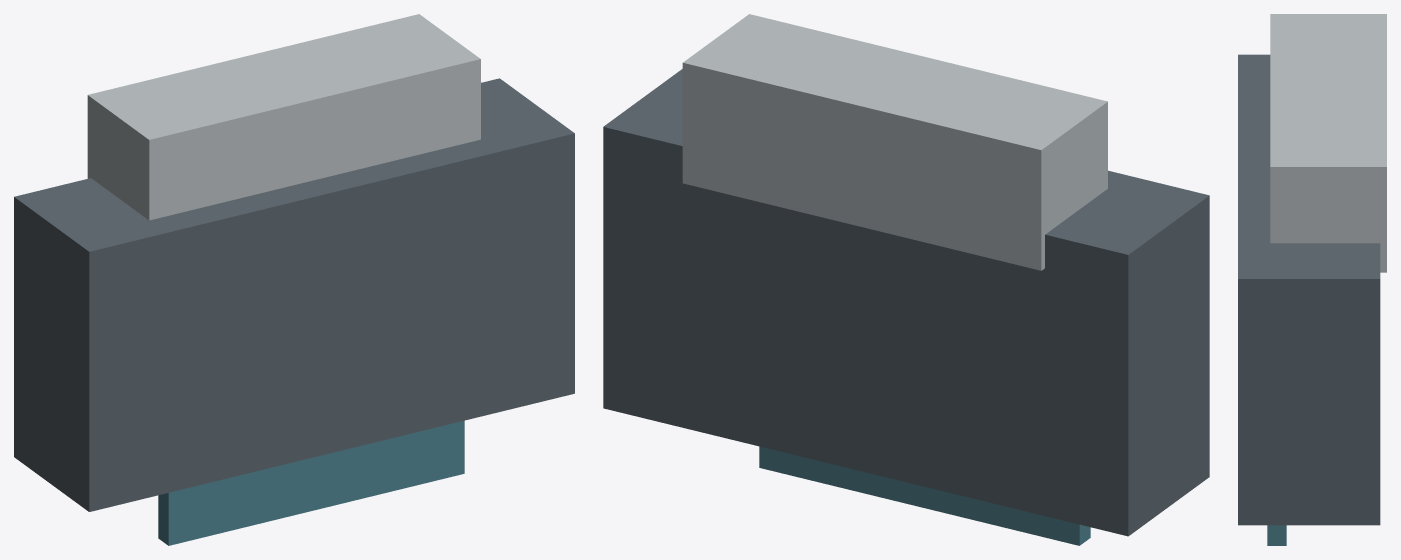
File: oximeter-low.glb
3 renders of one model, left to right at view 1: azimuth 30°, elevation 25°; view 2: azimuth 150°, elevation 25°; view 3: azimuth 270°, elevation 25°, orthographic. The views are drawn at different scales.
Visible parts, largest first — view 1: oximeter_body, oximeter_clip, oximeter_screen; view 2: oximeter_body, oximeter_clip, oximeter_screen; view 3: oximeter_body, oximeter_clip, oximeter_screen.
Part boxes in pixels (box(x1,y1,x2,y2)): oximeter_body: box(14, 78, 574, 511); oximeter_clip: box(87, 14, 480, 220); oximeter_screen: box(158, 420, 464, 545); oximeter_body: box(603, 69, 1209, 536); oximeter_clip: box(682, 14, 1107, 270); oximeter_screen: box(759, 446, 1090, 545); oximeter_body: box(1238, 54, 1380, 525); oximeter_clip: box(1270, 14, 1386, 272); oximeter_screen: box(1267, 525, 1286, 545).
Size of the model in its own units: 0.82 by 0.66 by 0.23.
